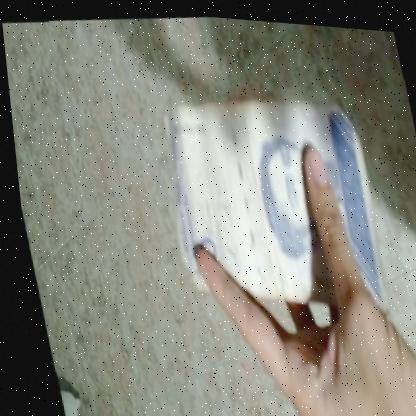ten-front-vef: (148, 81, 390, 328)
